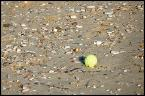tennis ball: (84, 54, 98, 68)
